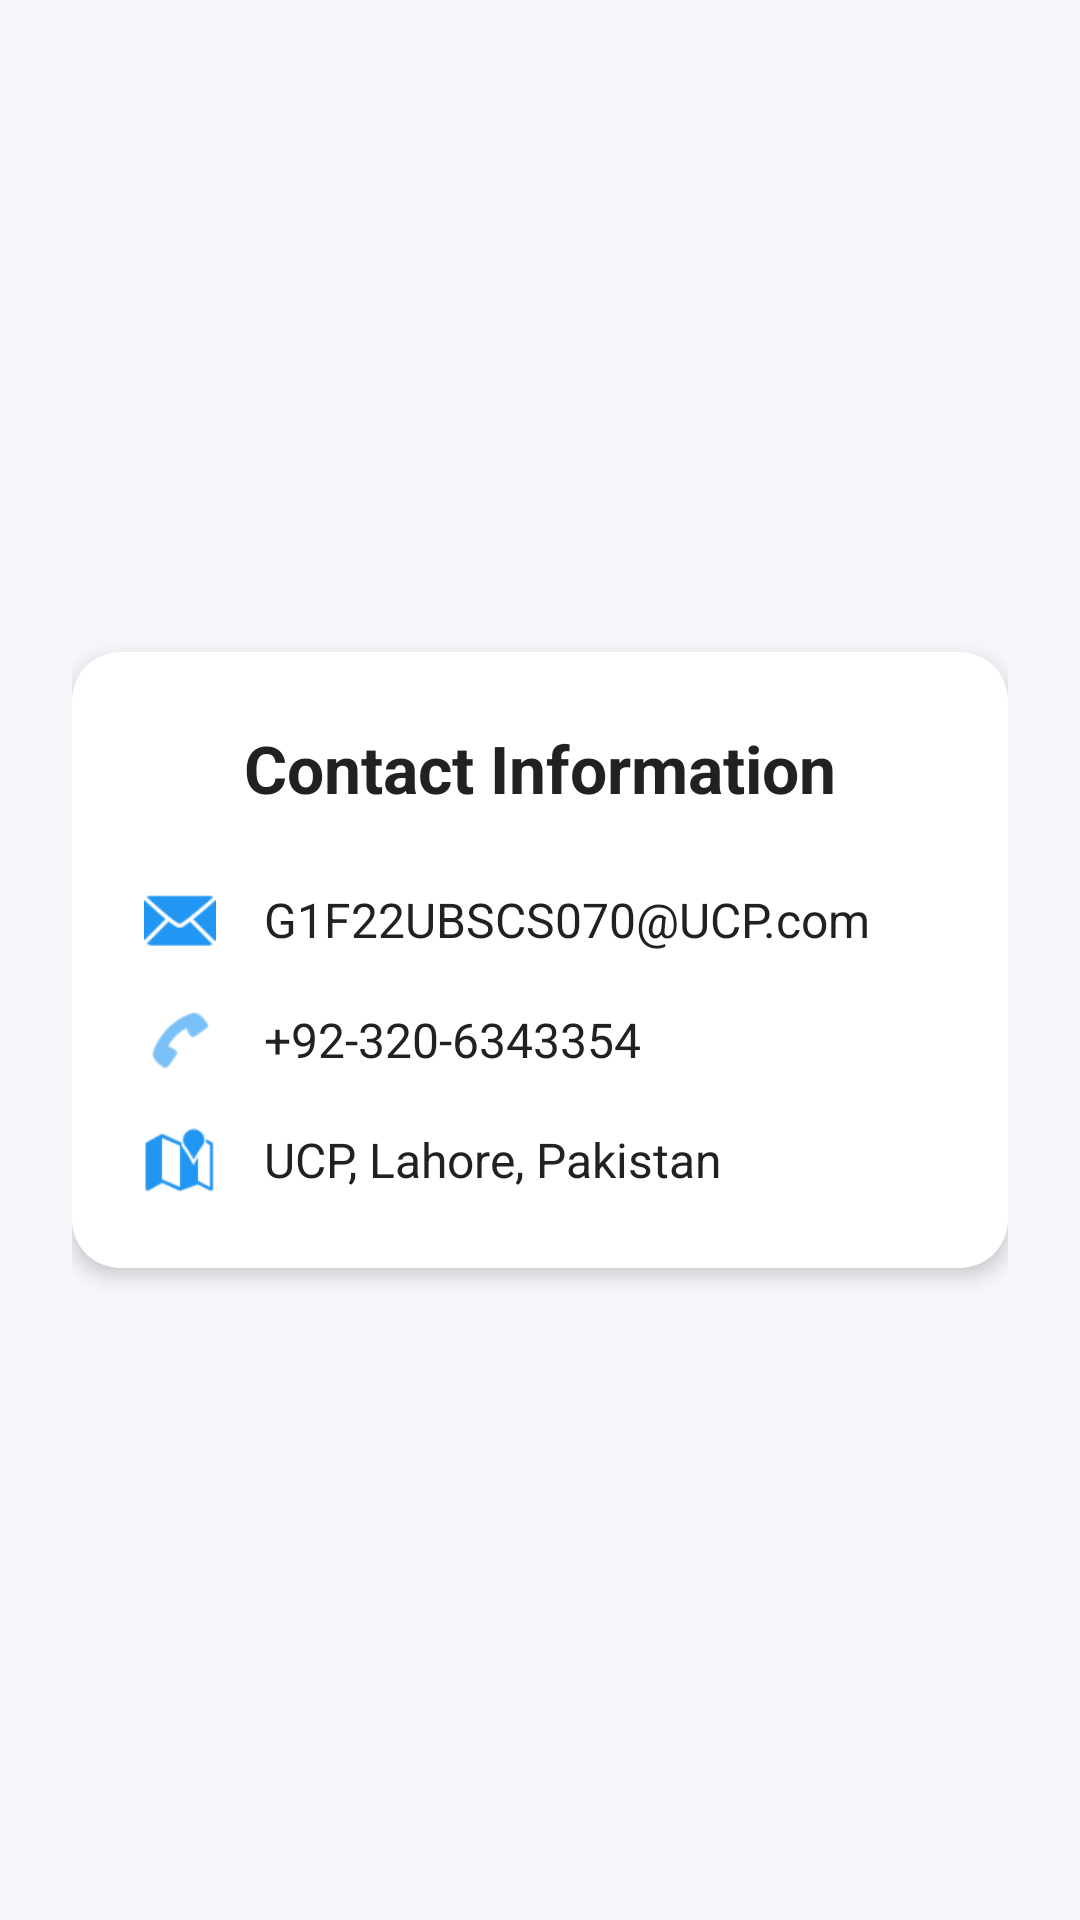

Named icons in this screenshot (1080×1920) and their bounding boxes, box=[x1, y1, x2, y2]:
Address Icon: box=[145, 1128, 214, 1192]
Email Icon: box=[144, 895, 216, 946]
Phone Icon: box=[152, 1012, 209, 1069]
